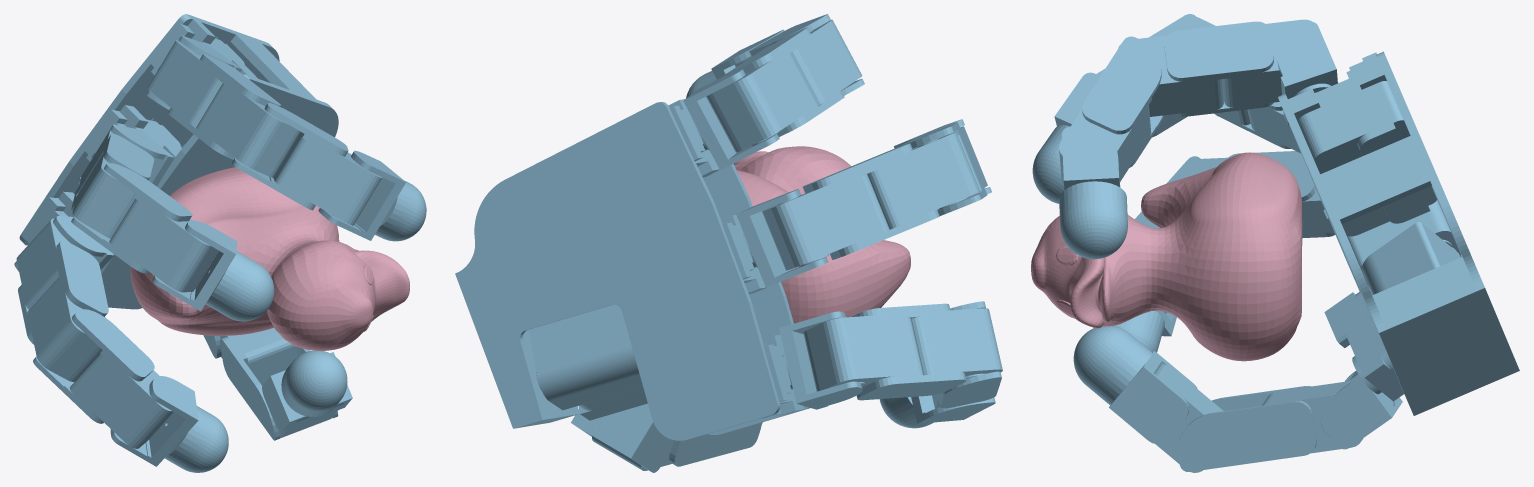
3 renders of one model, left to right at view 1: azimuth 30°, elevation 25°; view 2: azimuth 150°, elevation 25°; view 3: azimuth 270°, elevation 25°, orthographic. The views are drawn at different scales.
Visible parts, largest first — view 1: world, rubber_duck.stl; view 2: world, rubber_duck.stl; view 3: world, rubber_duck.stl.
Part boxes in pixels (x1,y1,x2,y2): world: [14, 14, 426, 472]; rubber_duck.stl: [130, 167, 409, 350]; world: [455, 14, 1002, 472]; rubber_duck.stl: [734, 146, 910, 323]; world: [1032, 14, 1519, 472]; rubber_duck.stl: [1031, 152, 1302, 361].
Bounding box in the file's own units: 0.1677 × 0.1613 × 0.1729.
